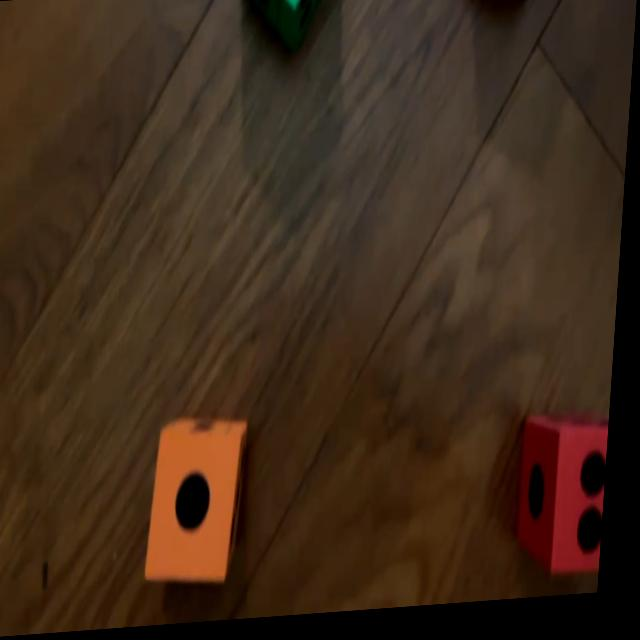blue_block: (494, 0, 550, 4)
red_block: (521, 422, 616, 588)
